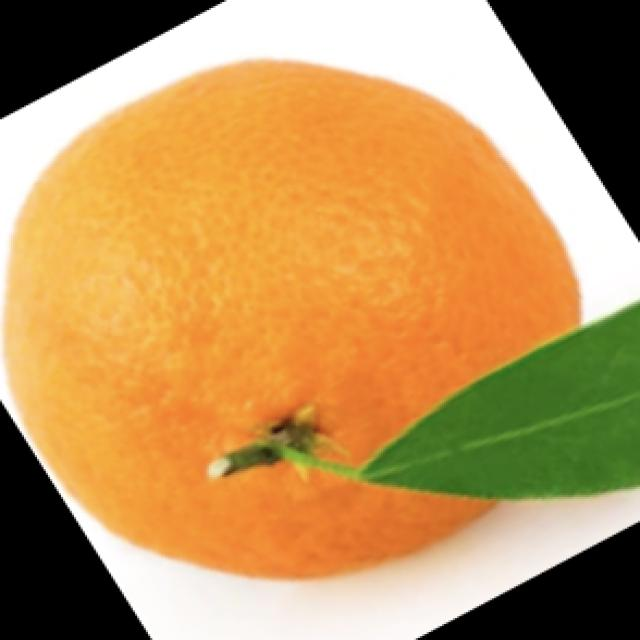matang: (3, 64, 574, 580)
